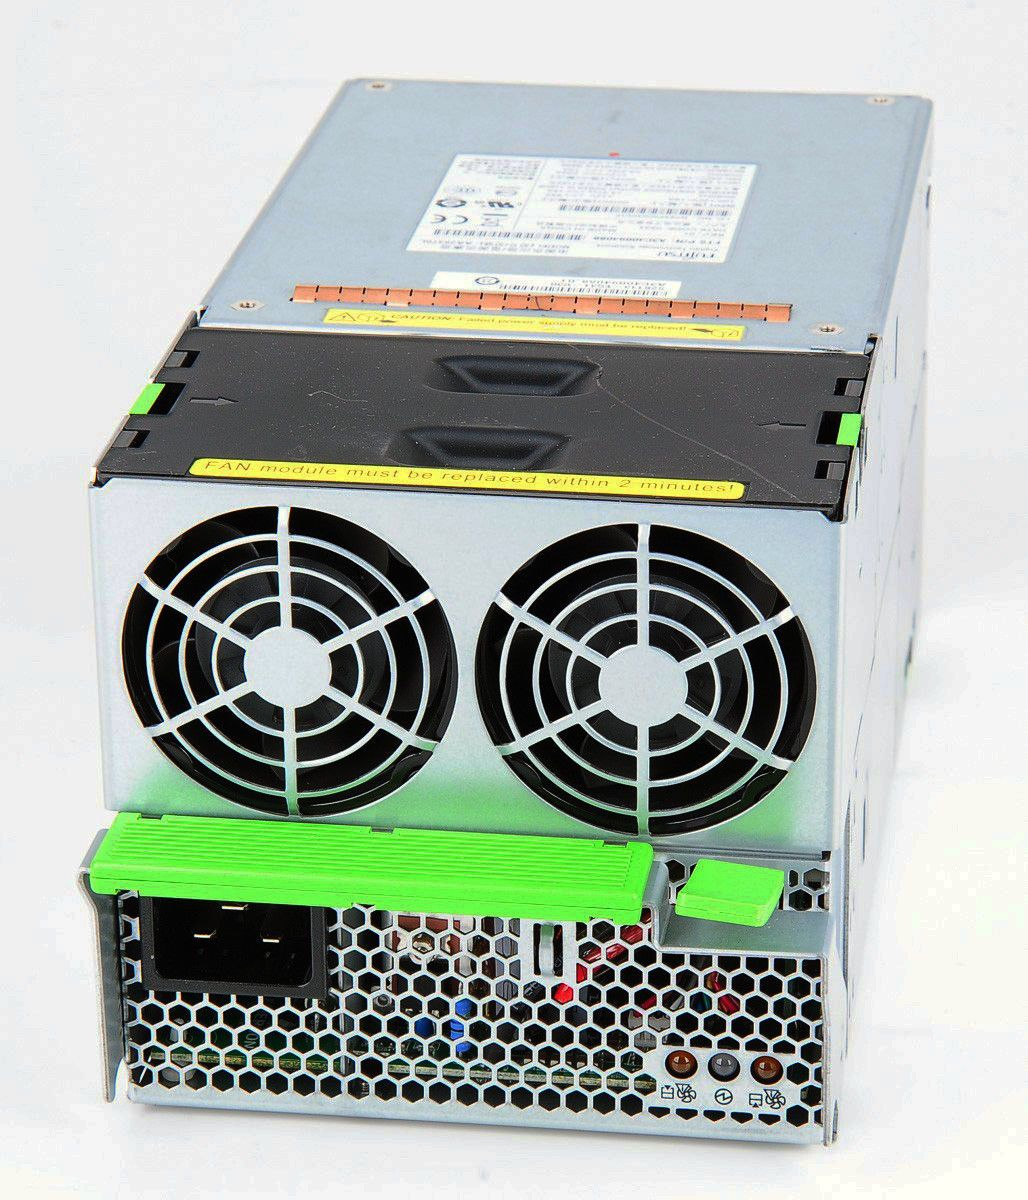Power Supply: (75, 62, 971, 1184)
